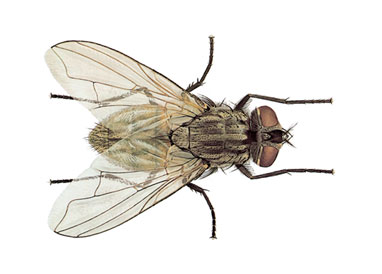fly: (36, 30, 344, 248)
